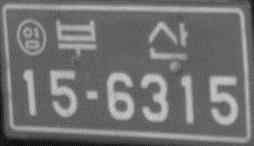-: (82, 88, 103, 101)
1: (19, 66, 43, 118), (178, 73, 197, 125)
3: (138, 71, 170, 123)
5: (207, 73, 240, 125), (47, 68, 80, 118)
6: (104, 70, 136, 122)
부산_D: (53, 16, 191, 62)
영: (15, 18, 48, 57)
